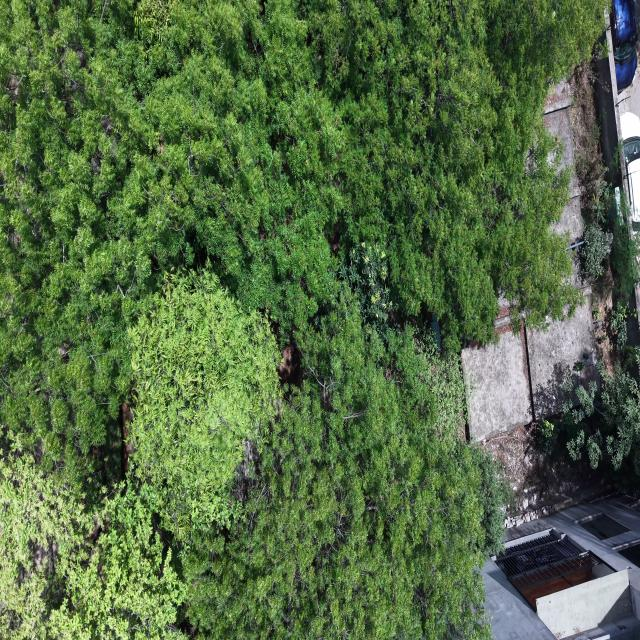ROOFTOP_BUILDING: (483, 497, 639, 639)
VEGETATION_TREE: (0, 0, 605, 639), (0, 0, 602, 463), (2, 289, 502, 638), (183, 296, 501, 638), (487, 38, 639, 525), (540, 64, 639, 493), (130, 272, 281, 540), (0, 448, 187, 639), (570, 46, 637, 307), (546, 359, 639, 492), (565, 365, 639, 474), (581, 223, 612, 279)
